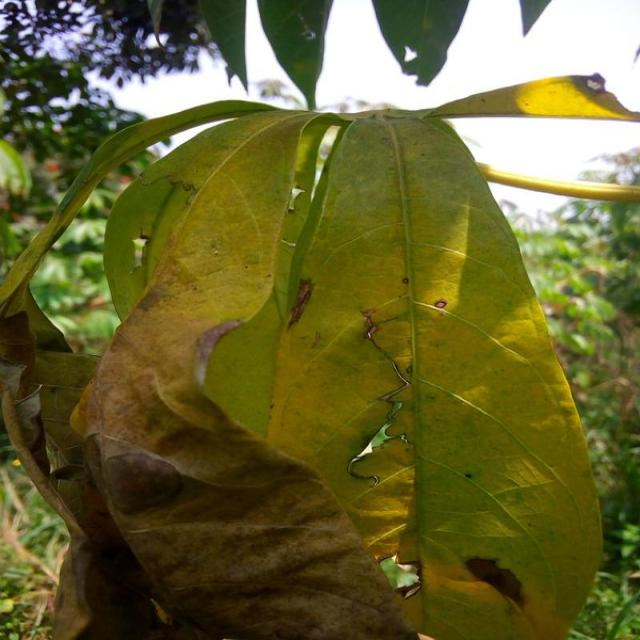cassava leaf: (67, 104, 604, 638)
